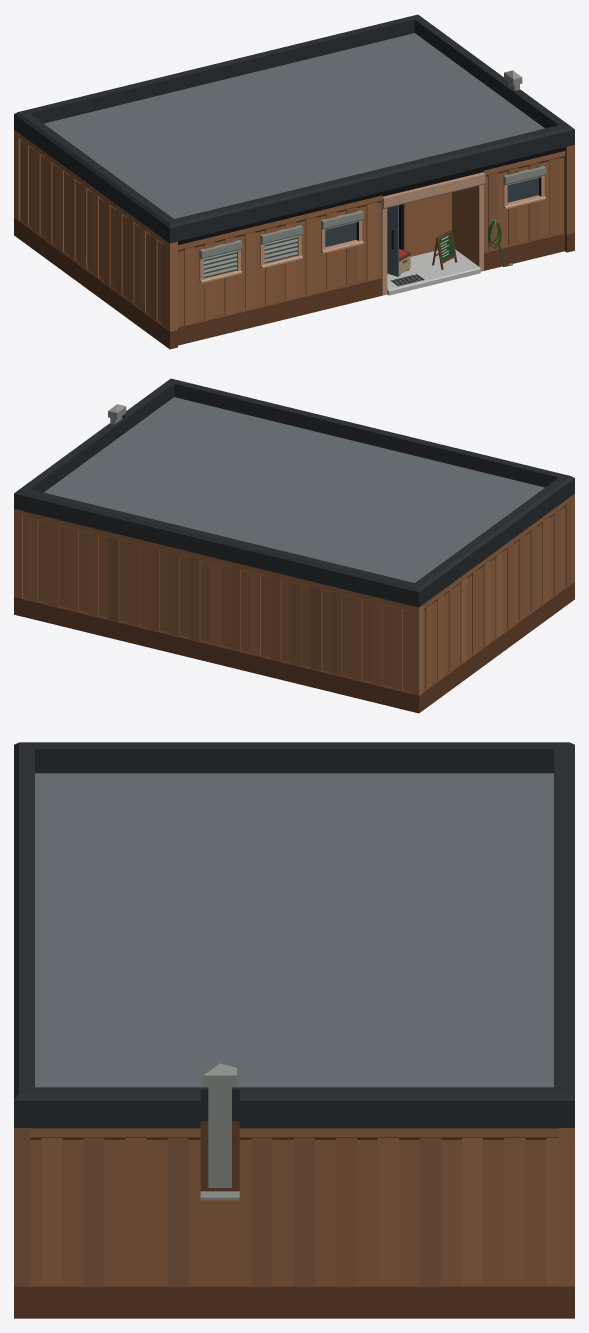
File: clubhouse-8570d2.glb
The picture shows the model from 3 angles, top to bottom: view 1: azimuth 30°, elevation 25°; view 2: azimuth 150°, elevation 25°; view 3: azimuth 270°, elevation 25°; orthographic projection. The views are drawn at different scales.
Visible parts, largest first — view 1: clubhouse-shell, door-leaf, team-sheet-mesh; view 2: clubhouse-shell; view 3: clubhouse-shell.
Boxes of the visible parts, x1,y1,x2,y2 form: clubhouse-shell: (14, 14, 574, 349); door-leaf: (387, 205, 398, 276); team-sheet-mesh: (432, 230, 457, 269); clubhouse-shell: (14, 378, 574, 713); clubhouse-shell: (14, 742, 574, 1318).
Size of the model in its own units: 12 by 3.95 by 8.
